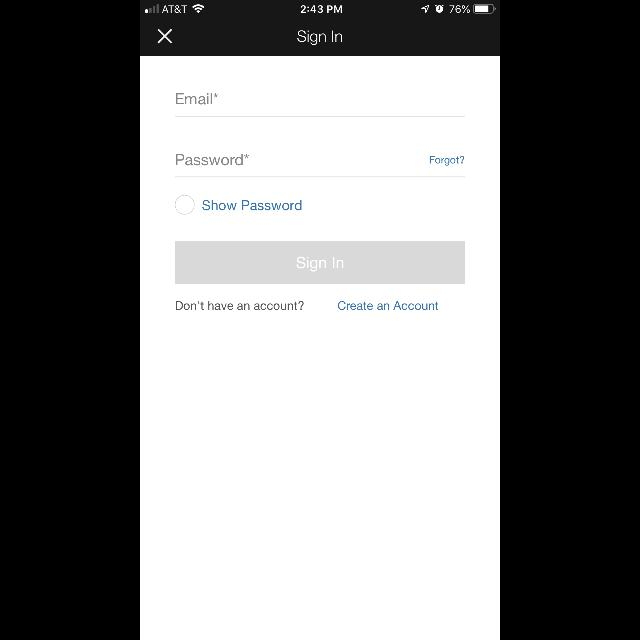checkbox: (176, 195, 194, 215)
icon: (158, 28, 172, 44)
input: (175, 93, 465, 117), (175, 154, 465, 178)
text: (202, 200, 302, 212), (176, 302, 304, 310), (176, 154, 248, 166), (338, 302, 438, 310), (298, 30, 342, 46), (176, 94, 218, 105), (430, 156, 464, 166)
textbutton: (175, 242, 465, 284)
uppertaskbar: (140, 0, 500, 14)
